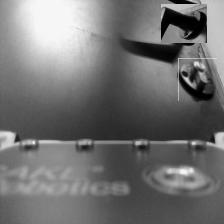Door Handle: (163, 2, 205, 44)
Lock: (178, 58, 217, 101)
